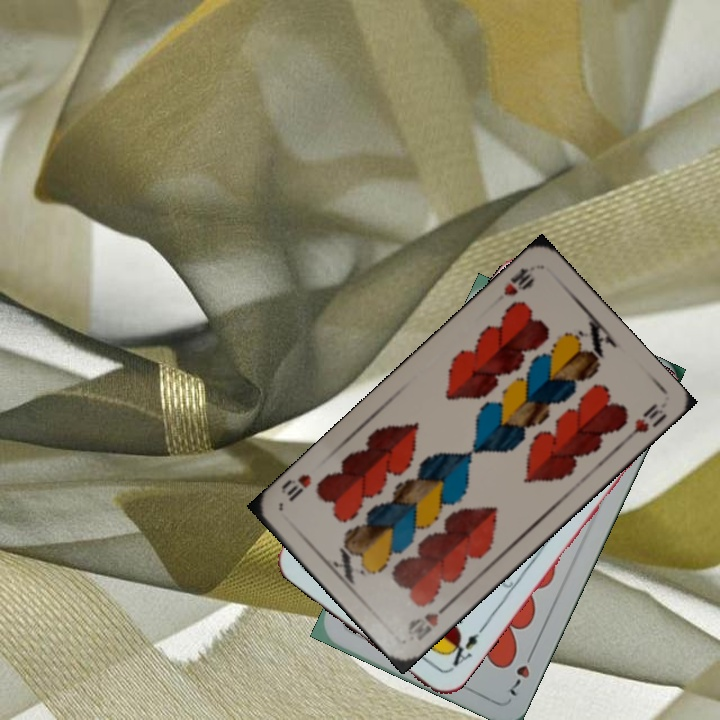EA: (442, 623, 487, 674)
H10: (403, 598, 453, 644), (499, 263, 537, 299)
H7: (504, 645, 538, 699)
